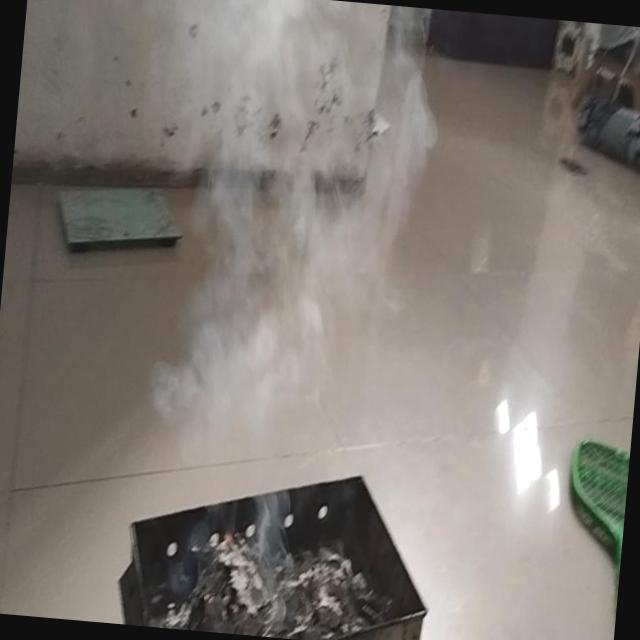smoke: (113, 0, 450, 264), (100, 255, 354, 578)
